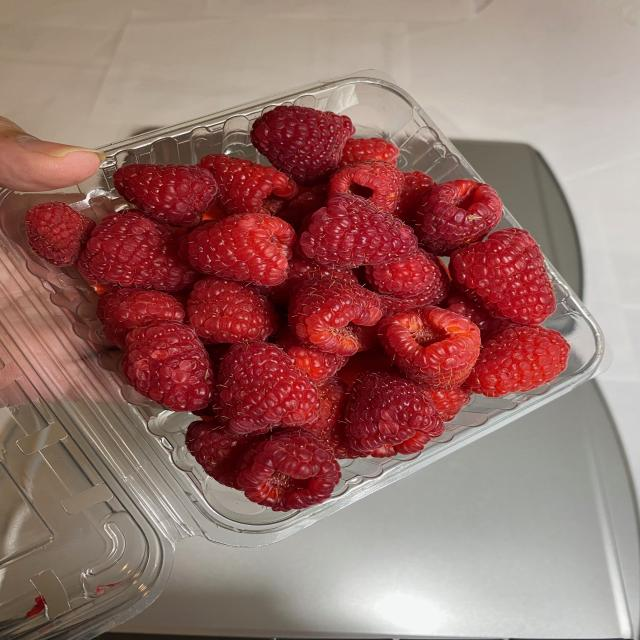raspberries: (72, 141, 564, 464)
